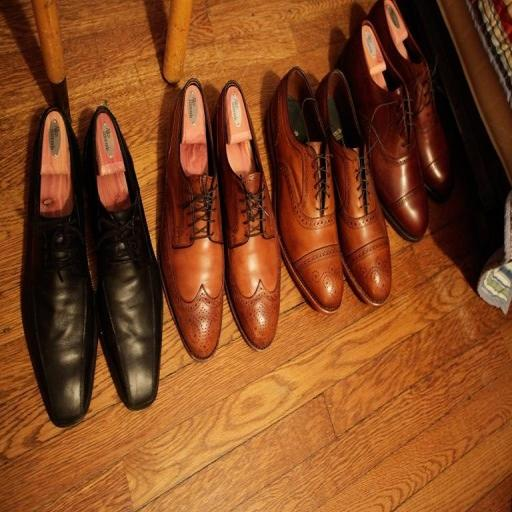shoe: (84, 106, 163, 409), (22, 108, 97, 427), (339, 20, 429, 241), (266, 67, 344, 313), (158, 78, 224, 360), (214, 81, 281, 350), (316, 69, 392, 305), (368, 0, 454, 200)
